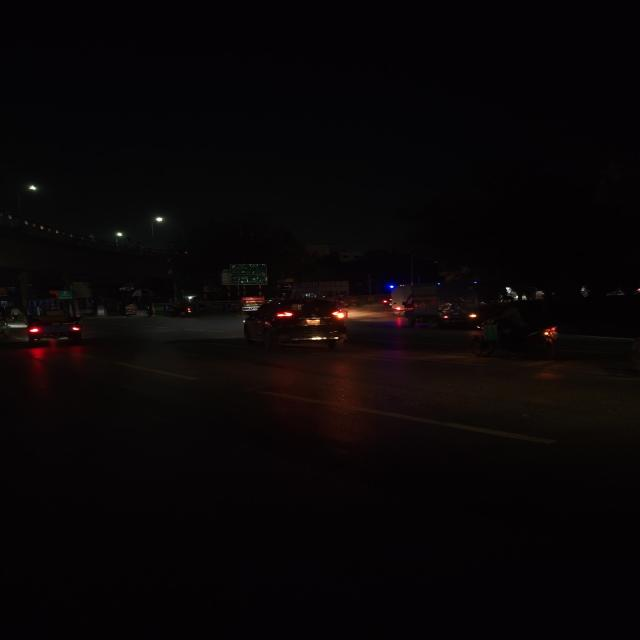car: (238, 296, 354, 353)
pickup_van: (17, 296, 87, 343)
rickshaw: (468, 295, 567, 361)
truck: (400, 286, 481, 328)
